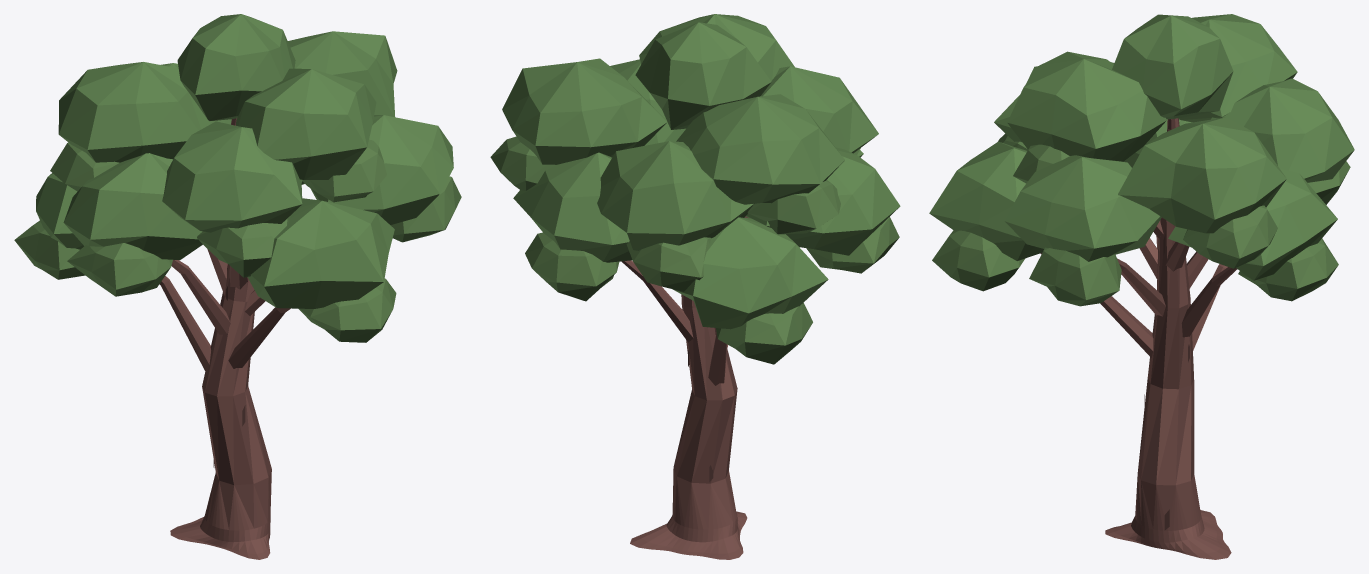
The model's file is cherry_wild_summer.glb.
The picture shows the model from 3 angles, left to right: view 1: azimuth 30°, elevation 25°; view 2: azimuth 150°, elevation 25°; view 3: azimuth 270°, elevation 25°; orthographic projection. The views are drawn at different scales.
Visible parts, largest first — view 1: leaves, branches; view 2: leaves, branches; view 3: leaves, branches.
Part boxes in pixels (x1,y1,x2,y2): leaves: (14,14,461,342); branches: (159,118,290,559); leaves: (490,14,900,364); branches: (621,216,748,559); leaves: (929,14,1354,306); branches: (1040,118,1237,559).
Size of the model in its own units: 3.31 by 4.6 by 3.4.
